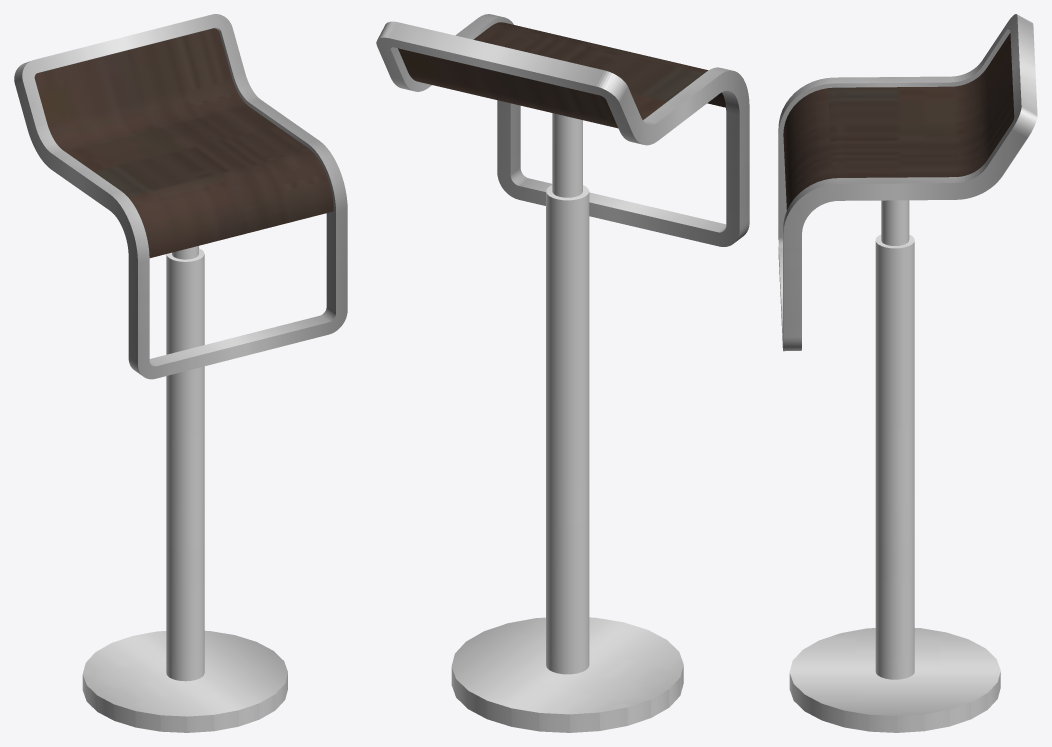
File: La Palma Stool.obj
3 renders of one model, left to right at view 1: azimuth 30°, elevation 25°; view 2: azimuth 150°, elevation 25°; view 3: azimuth 270°, elevation 25°, orthographic. The views are drawn at different scales.
Visible parts, largest first — view 1: Mesh1 Group1 Model; view 2: Mesh1 Group1 Model; view 3: Mesh1 Group1 Model.
Boxes of the visible parts, <box> form: Mesh1 Group1 Model: <box>14,14,347,732</box>; Mesh1 Group1 Model: <box>376,14,749,732</box>; Mesh1 Group1 Model: <box>778,14,1037,732</box>.
Bounding box in the file's own units: 13.75 × 37.02 × 13.88.
3 materials, 2 textured.
